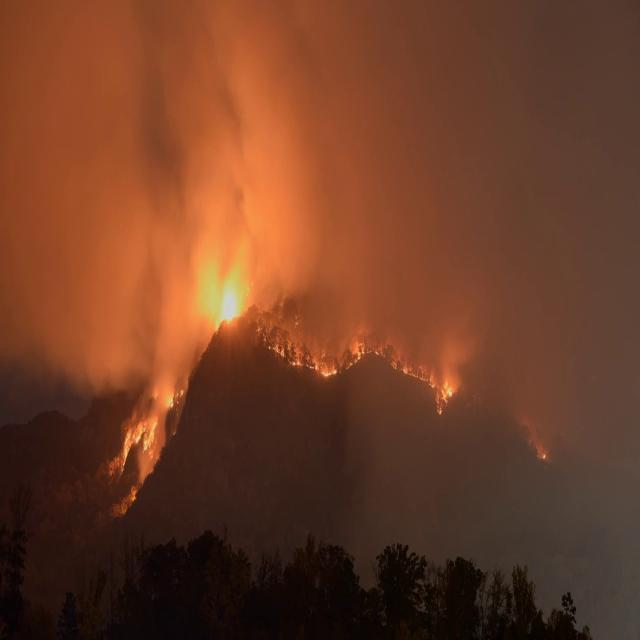Fire: (266, 334, 454, 420), (118, 386, 184, 476), (199, 262, 249, 334)
Smoke: (0, 1, 640, 640)
